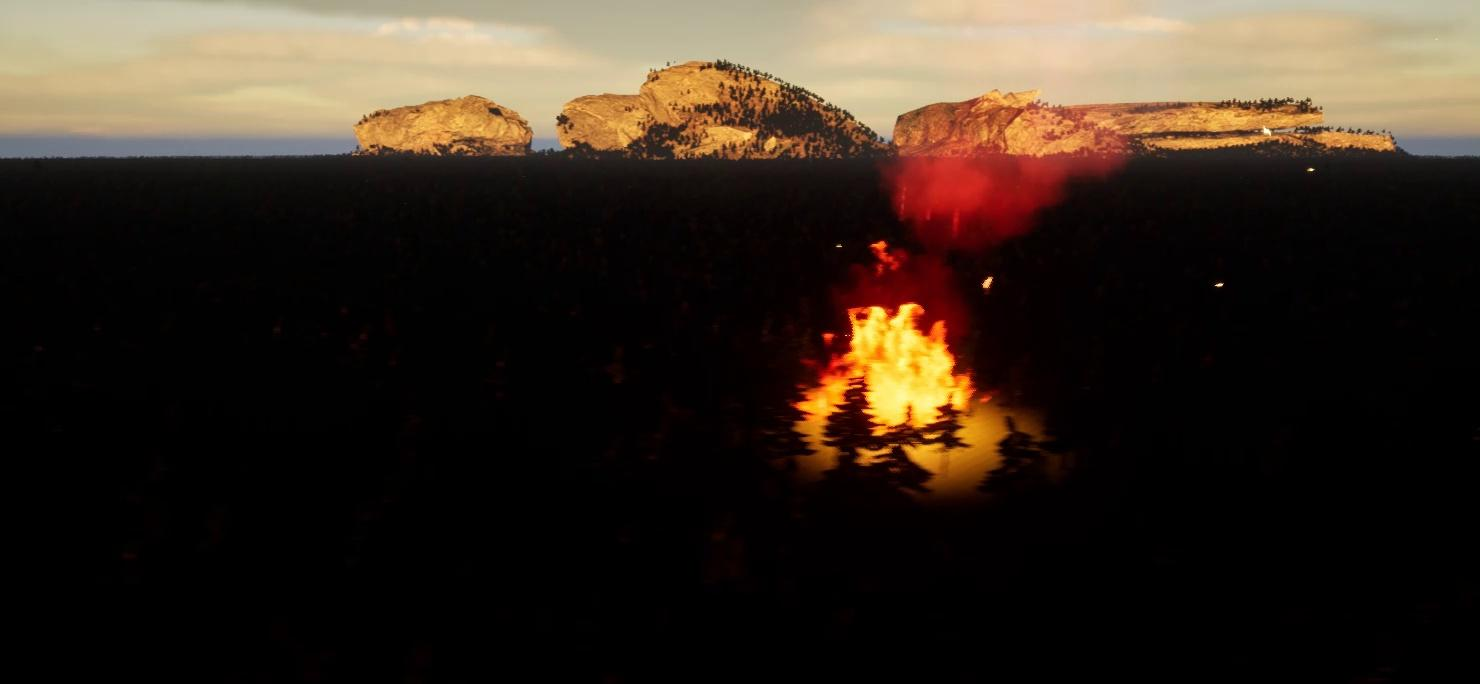fire: (798, 301, 985, 434)
smoke: (849, 106, 1118, 278)
